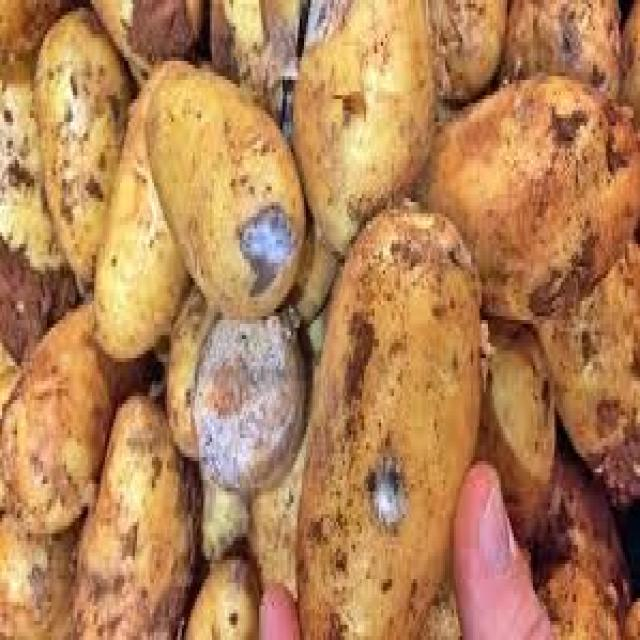organic waste: (291, 194, 482, 636), (407, 72, 638, 324), (141, 57, 306, 316), (0, 290, 154, 537), (291, 0, 435, 255), (71, 389, 199, 636), (90, 57, 190, 358), (29, 0, 128, 293), (546, 229, 638, 499), (188, 316, 306, 488), (475, 312, 552, 541), (538, 446, 632, 610), (208, 0, 300, 130), (496, 0, 616, 95), (0, 80, 60, 270), (248, 416, 306, 594), (0, 503, 75, 636), (0, 240, 79, 366), (90, 0, 203, 80), (163, 286, 214, 457), (535, 552, 638, 636), (426, 0, 505, 107), (180, 549, 257, 636), (287, 202, 338, 328), (0, 0, 58, 80), (199, 480, 250, 560), (608, 0, 638, 130), (304, 297, 327, 351)
